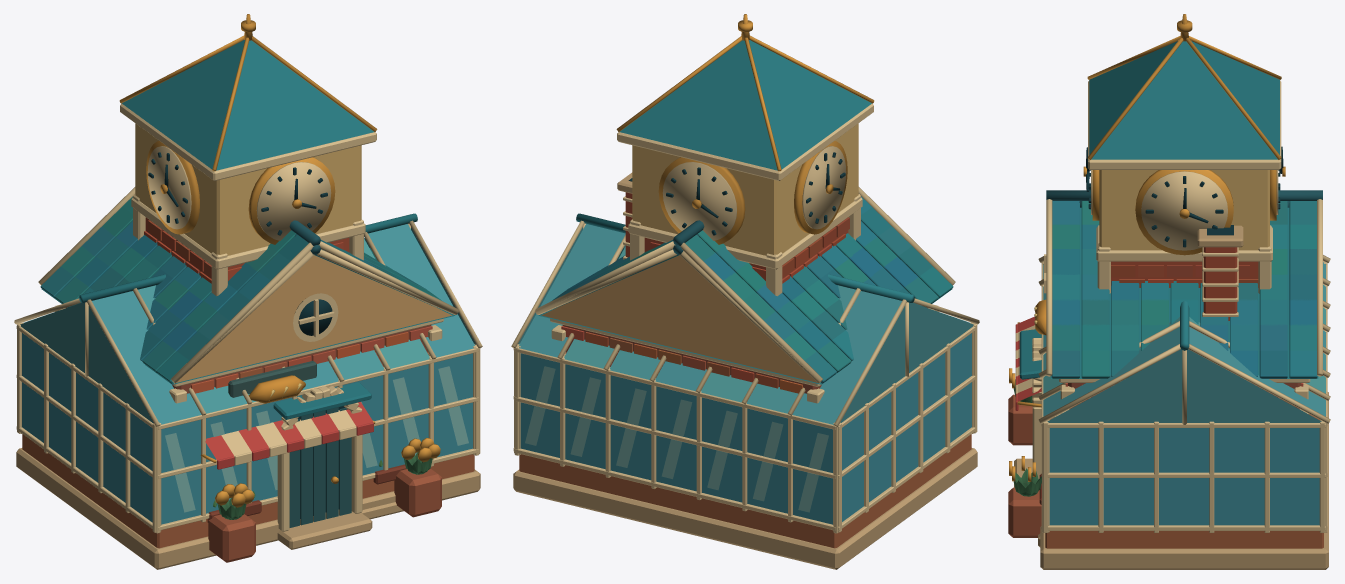
File: harbor-kit.glb
3 views of the same model, side by side, from view 1: azimuth 30°, elevation 25°; view 2: azimuth 150°, elevation 25°; view 3: azimuth 270°, elevation 25° (orthographic). The views are drawn at different scales.
Visible parts, largest first — view 1: glasshouse, clockTower, brickHouse, bakery; view 2: glasshouse, clockTower, brickHouse, bakery; view 3: glasshouse, clockTower, brickHouse, bakery.
Boxes of the visible parts, bbox=[...] form: glasshouse: bbox=[14, 213, 482, 569]; clockTower: bbox=[119, 14, 377, 296]; brickHouse: bbox=[38, 187, 458, 522]; bakery: bbox=[39, 234, 456, 519]; glasshouse: bbox=[511, 213, 979, 569]; clockTower: bbox=[616, 14, 874, 296]; brickHouse: bbox=[535, 187, 955, 384]; bakery: bbox=[537, 172, 954, 403]; glasshouse: bbox=[1008, 255, 1330, 569]; clockTower: bbox=[1083, 14, 1285, 293]; brickHouse: bbox=[1019, 190, 1322, 504]; bakery: bbox=[1015, 201, 1322, 547].
Size of the model in its own units: 8.26 by 10.99 by 6.75.
